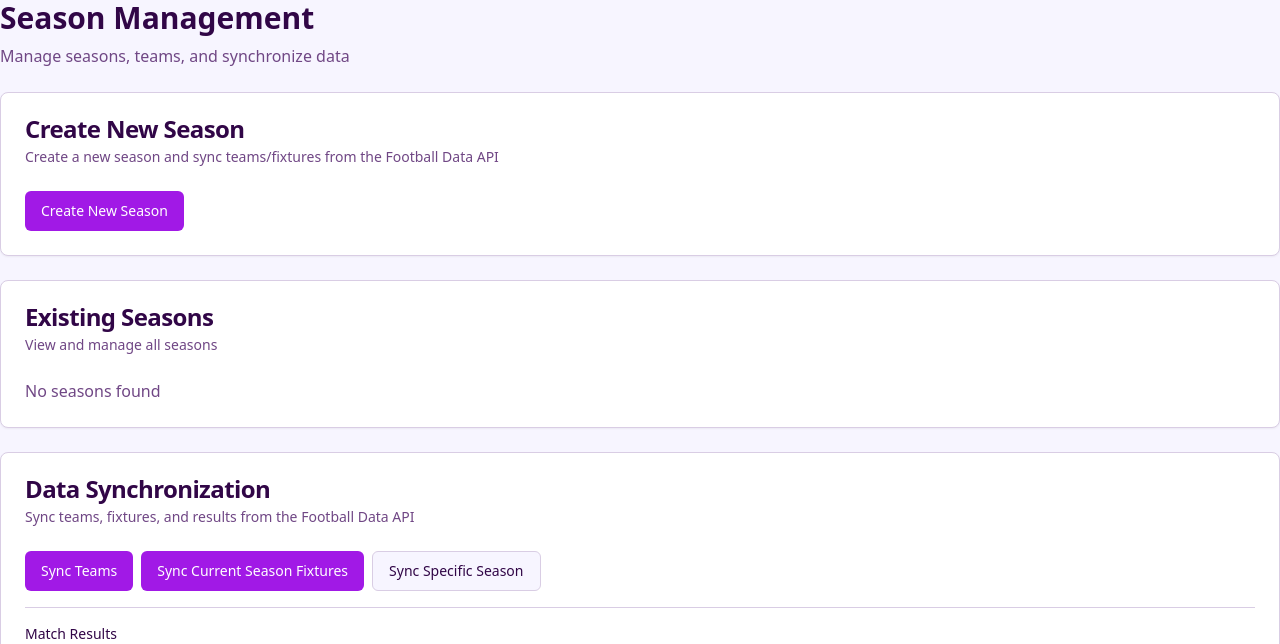
Test: SeasonManagementPage - Create New Season › Season Creation Flow › should show loading state while creating season
Click the button "Create New Season" at (104, 211), box [25,191,184,231]
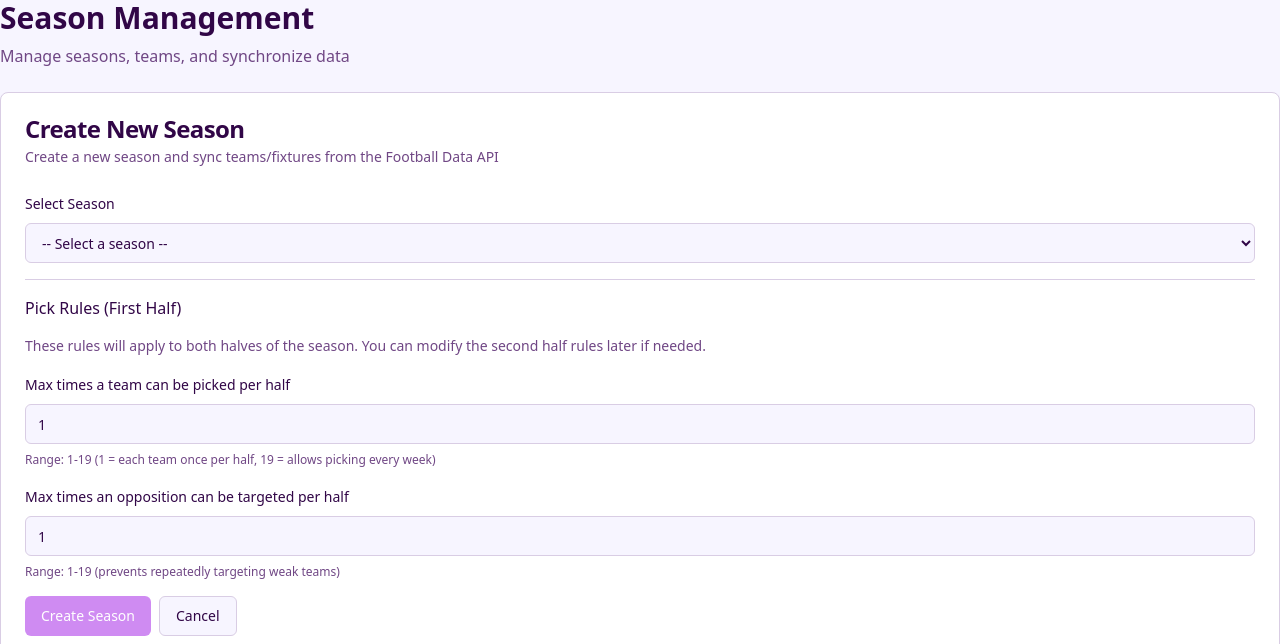
Expected: the dropdown labelled "Select Season" is shown
Select "2025/2026" in the dropdown labelled "Select Season" at (640, 243), box [25,223,1255,263]
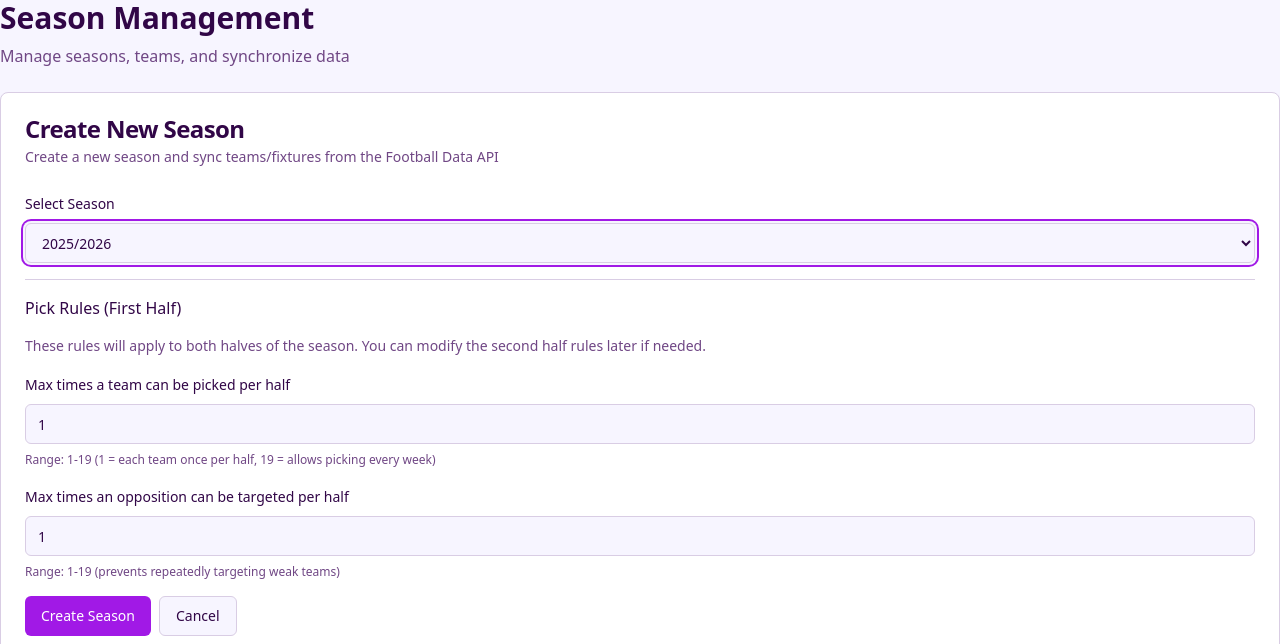
Click the button "Create Season" at (88, 616), box [25,596,151,636]
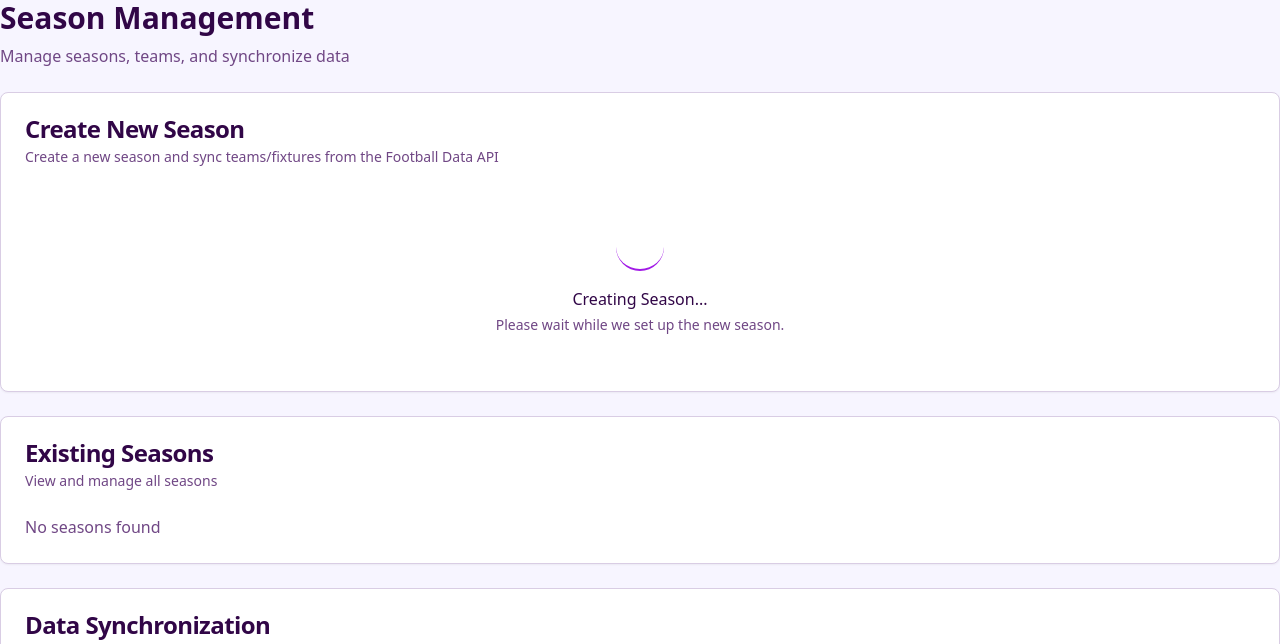
Expected: the text "Creating Season..." is shown, [572,288,708,310]
Expected: the text "Please wait while we set up the new season." is shown, [496,315,784,335]
